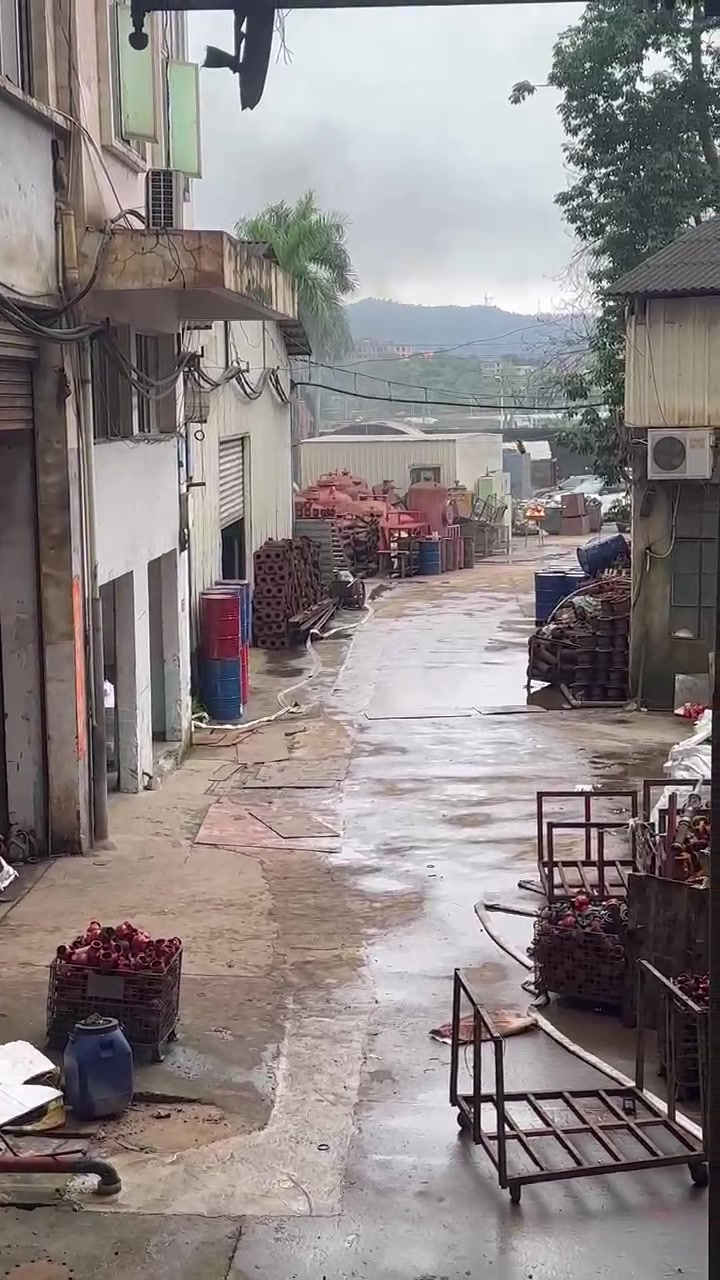fire: (525, 504, 543, 515)
